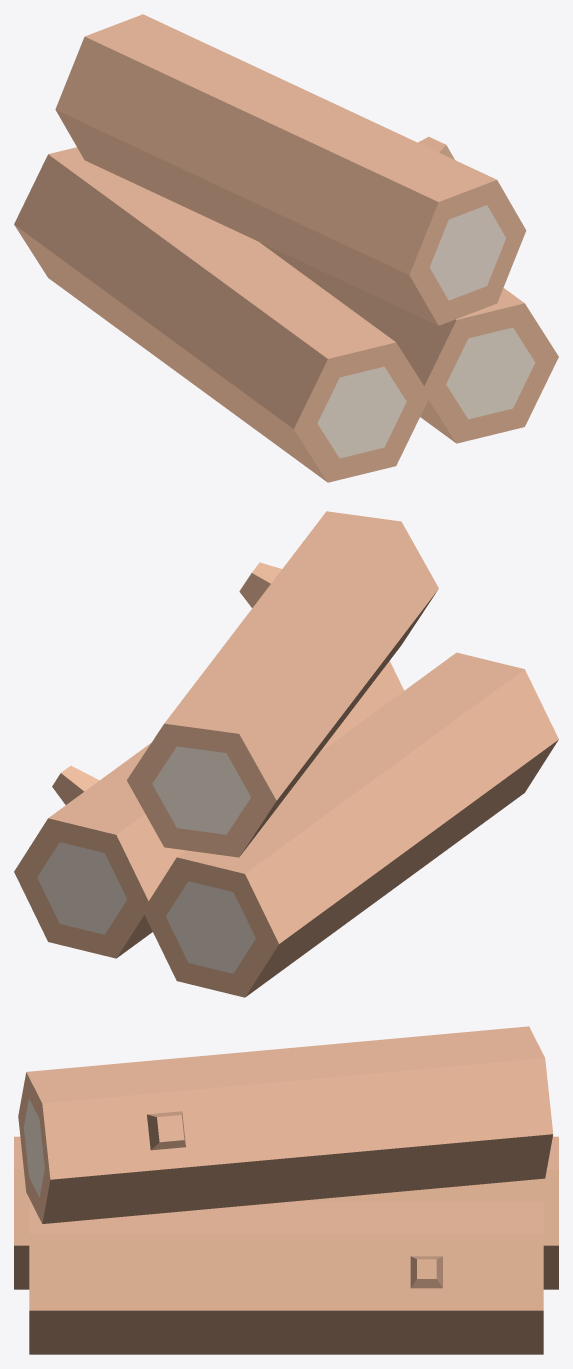
The model's file is log_stack.gltf.
The picture shows the model from 3 angles, top to bottom: view 1: azimuth 30°, elevation 25°; view 2: azimuth 150°, elevation 25°; view 3: azimuth 270°, elevation 25°; orthographic projection. The views are drawn at different scales.
Visible parts, largest first — view 1: log_stack; view 2: log_stack; view 3: log_stack.
Part boxes in pixels (x1=…): log_stack: x1=14, y1=14, x2=558, y2=482; log_stack: x1=14, y1=511, x2=558, y2=997; log_stack: x1=14, y1=1026, x2=558, y2=1354.
Size of the model in its own units: 0.4247 by 0.3464 by 0.71.
